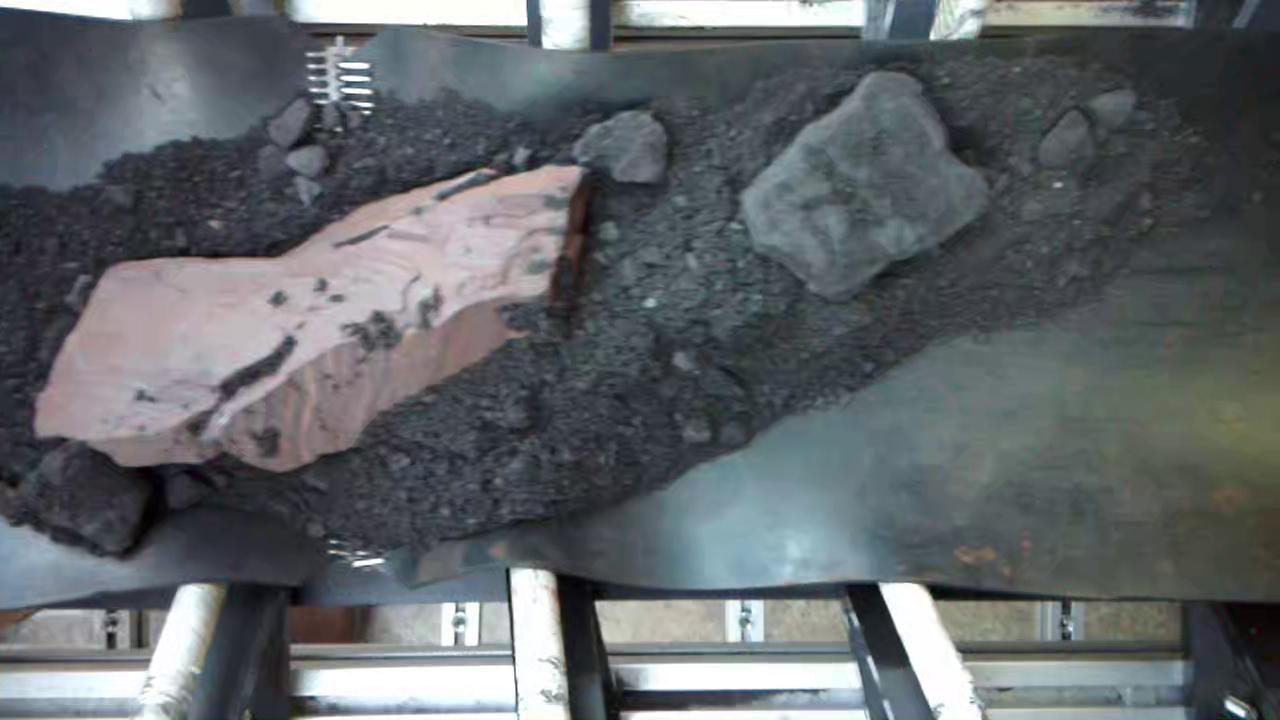conveyor: (9, 46, 1280, 591)
